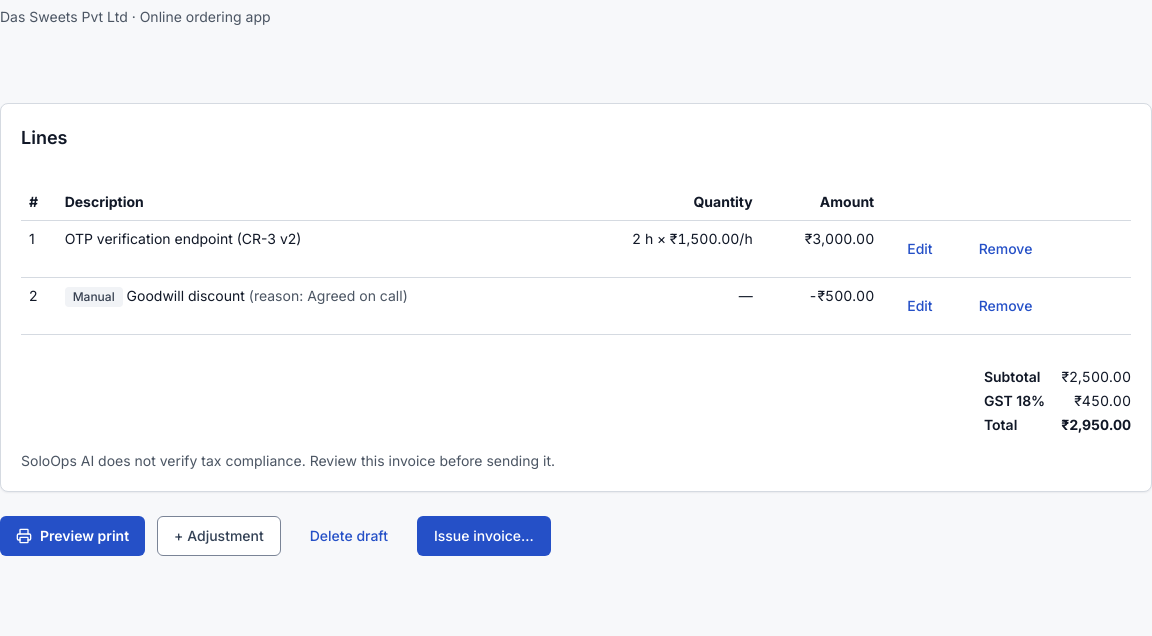
S-11 invoice draft (FR-042, FR-043) › CT-INV-03 AC-019.3 BR-025 an adjustment needs a reason; the signed amount is sent as minor units
The width and height of the screenshot is (1152, 636).
Click the button "+ Adjustment" at (219, 536), box [157,516,281,556]
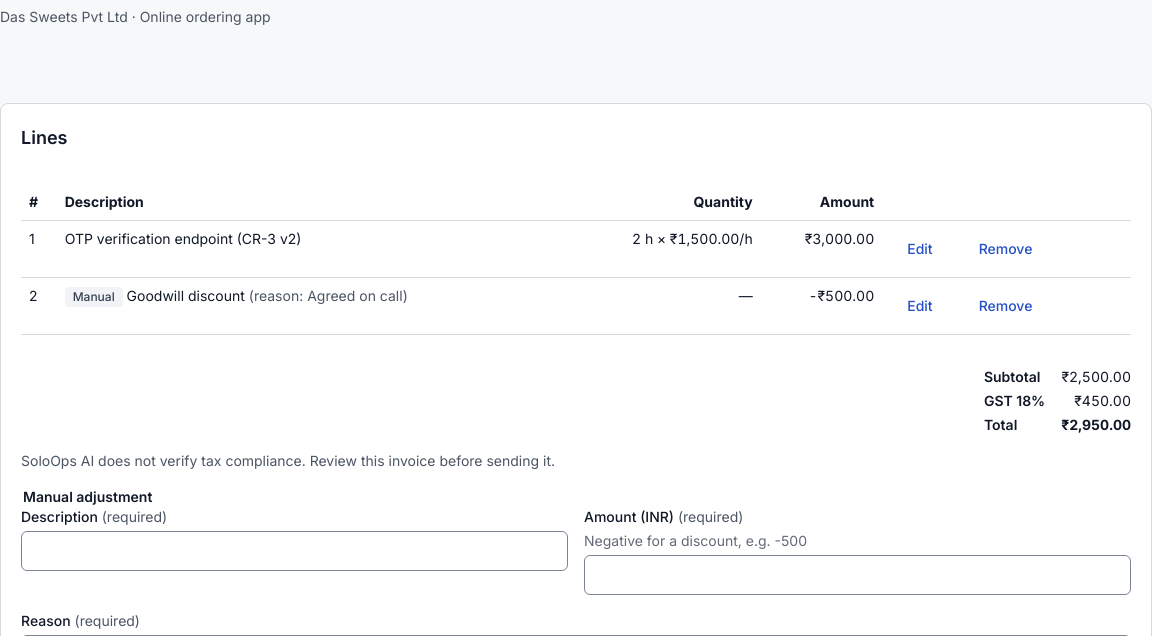
Type "Discount" into the field labelled "Description (required)" at (294, 551), box [21,531,568,571]
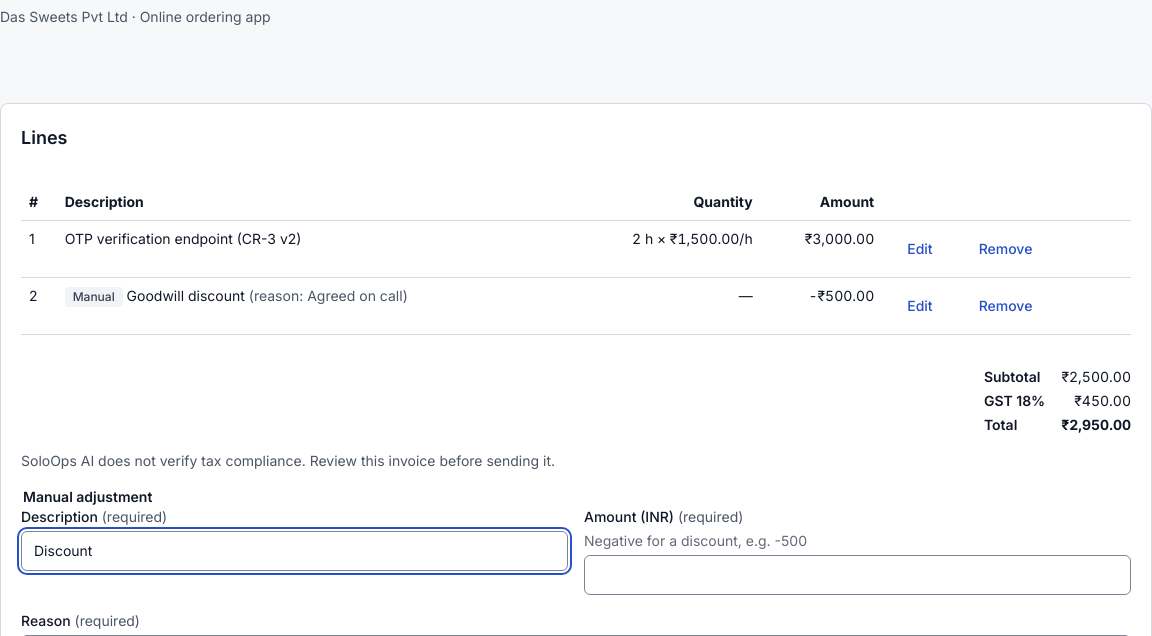
Type "-500.50" into the field labelled "Amount (INR) (required)" at (858, 575), box [584,555,1131,595]
(page scrolled)
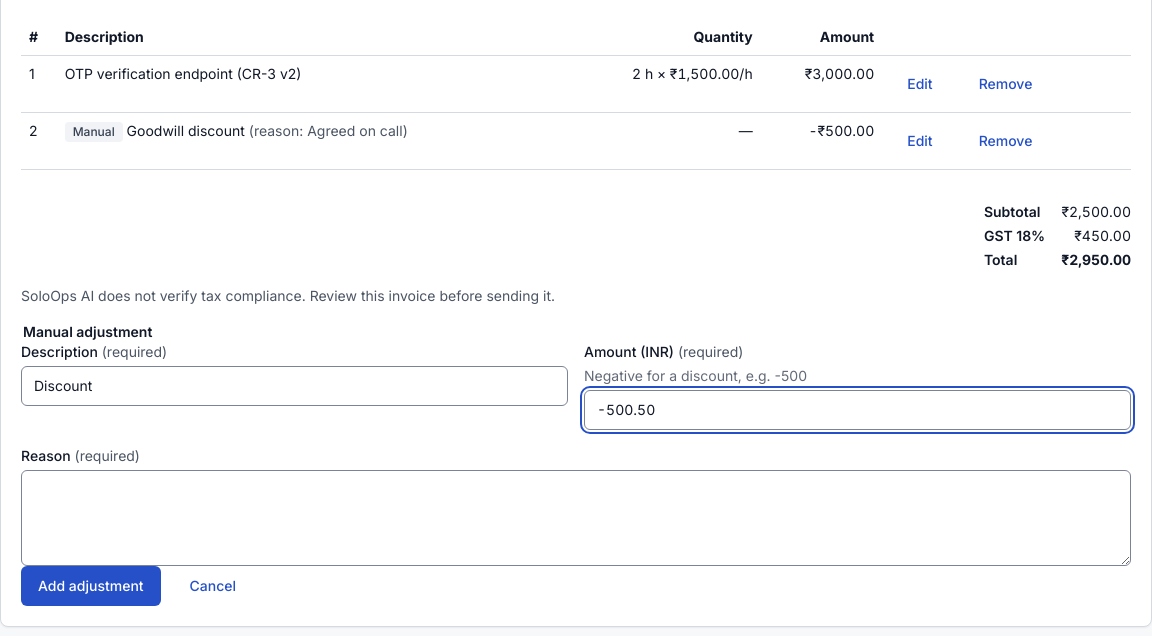
Click the button "Add adjustment" at (91, 586), box [21,566,161,606]
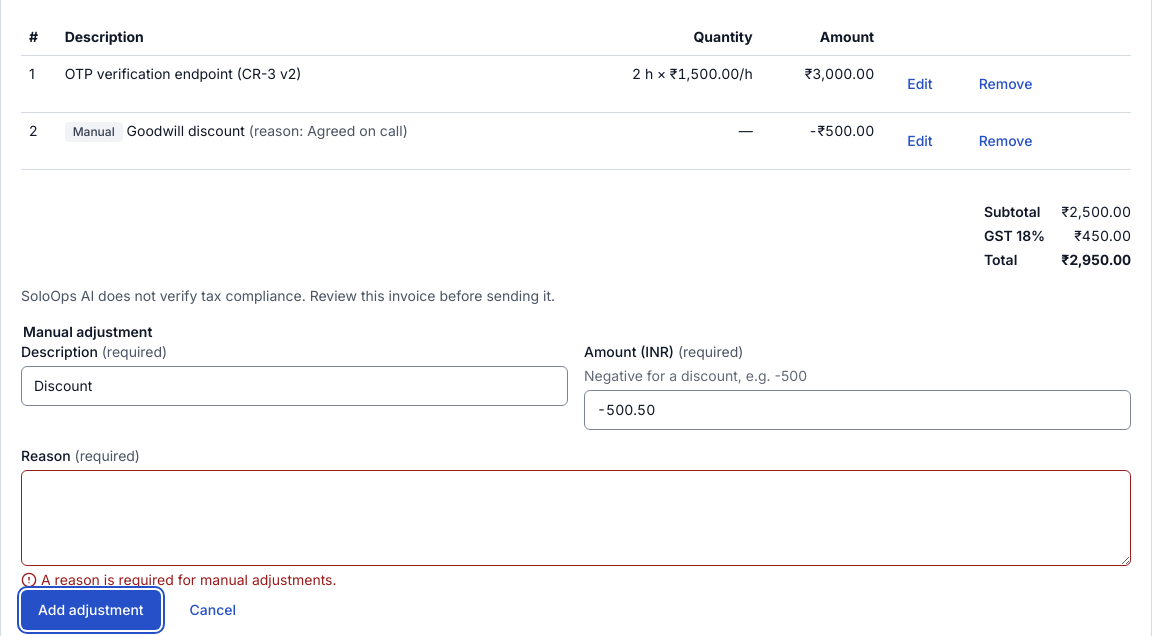
Type "Late delivery" into the text box labelled "Reason (required)" at (576, 518), box [21,470,1131,566]
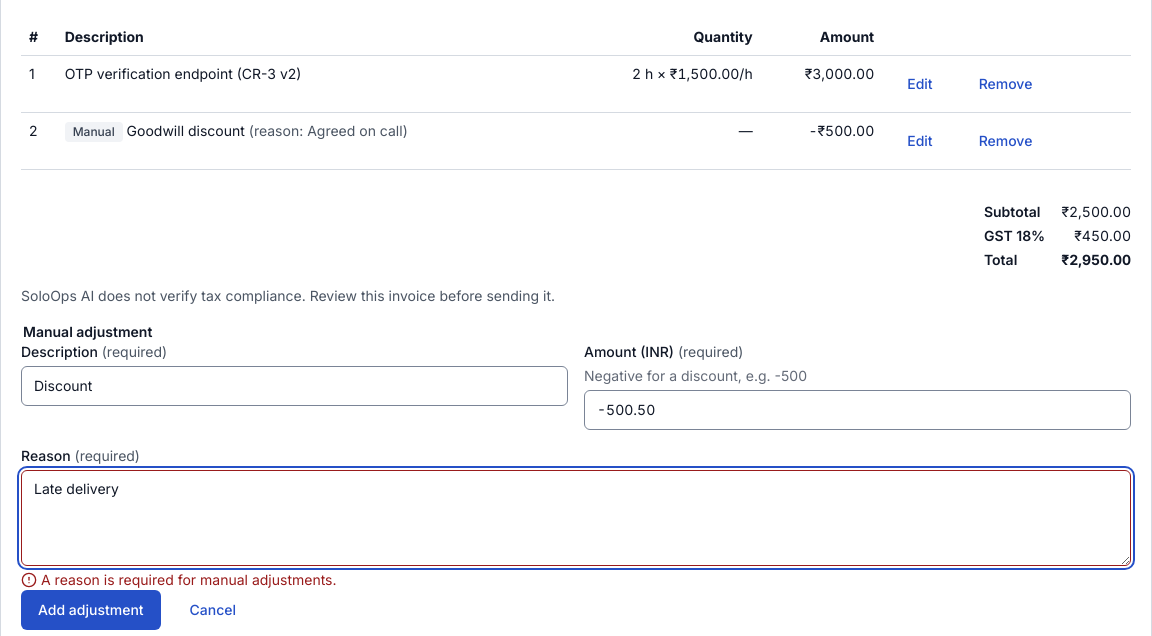
Click the button "Add adjustment" at (91, 610), box [21,590,161,630]
(page scrolled)
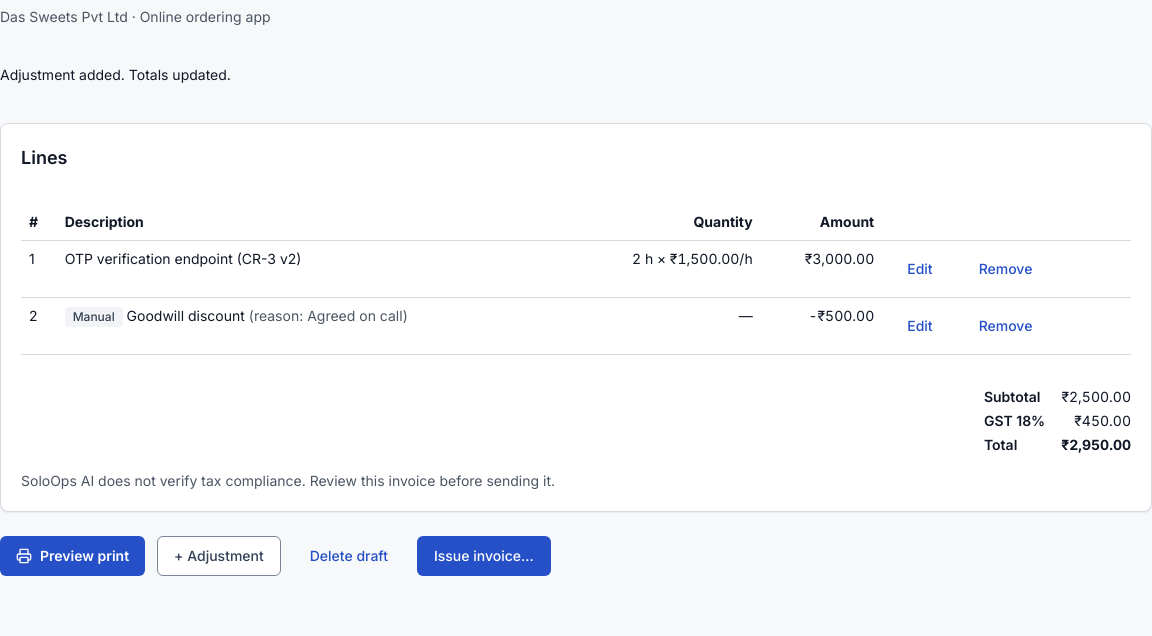
Now the message shows "Adjustment added", box [0,66,231,83]
